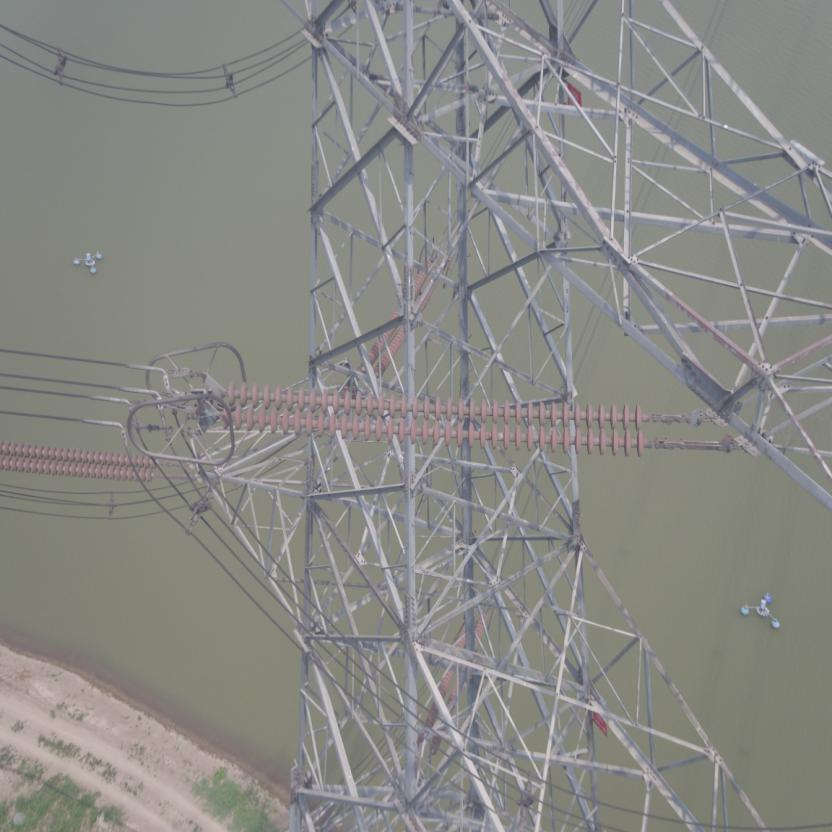insulator: (213, 378, 672, 460), (0, 432, 173, 484)
